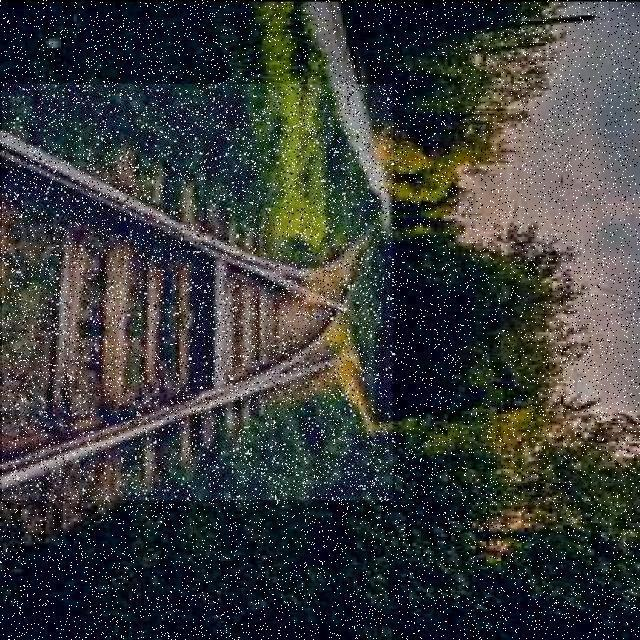rail: (4, 85, 394, 501)
